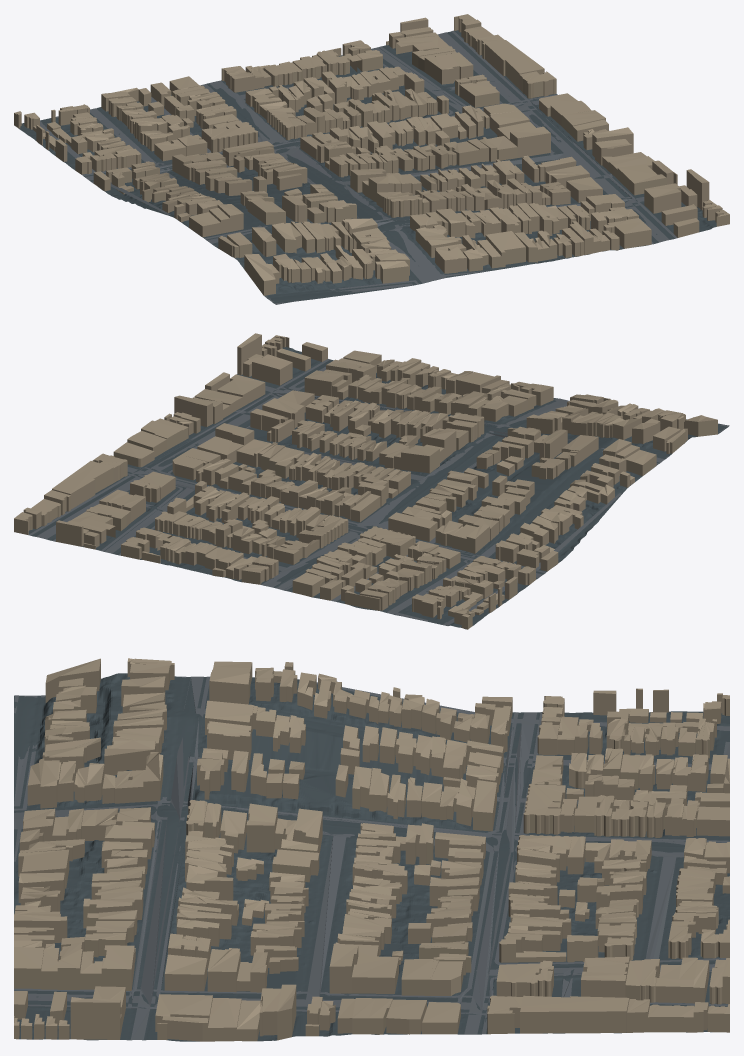
File: epsg26910-1434-10882.lod0.glb
3 renders of one model, top to bottom at view 1: azimuth 30°, elevation 25°; view 2: azimuth 150°, elevation 25°; view 3: azimuth 270°, elevation 25°, orthographic. The views are drawn at different scales.
Parts seen in each view (by area): view 1: epsg26910-1434-10882-lod0; view 2: epsg26910-1434-10882-lod0; view 3: epsg26910-1434-10882-lod0.
Part boxes in pixels (<box>): epsg26910-1434-10882-lod0: <box>14,14,729,304</box>; epsg26910-1434-10882-lod0: <box>14,333,729,629</box>; epsg26910-1434-10882-lod0: <box>14,658,729,1041</box>.
Size of the model in its own units: 384 by 50.14 by 384.
